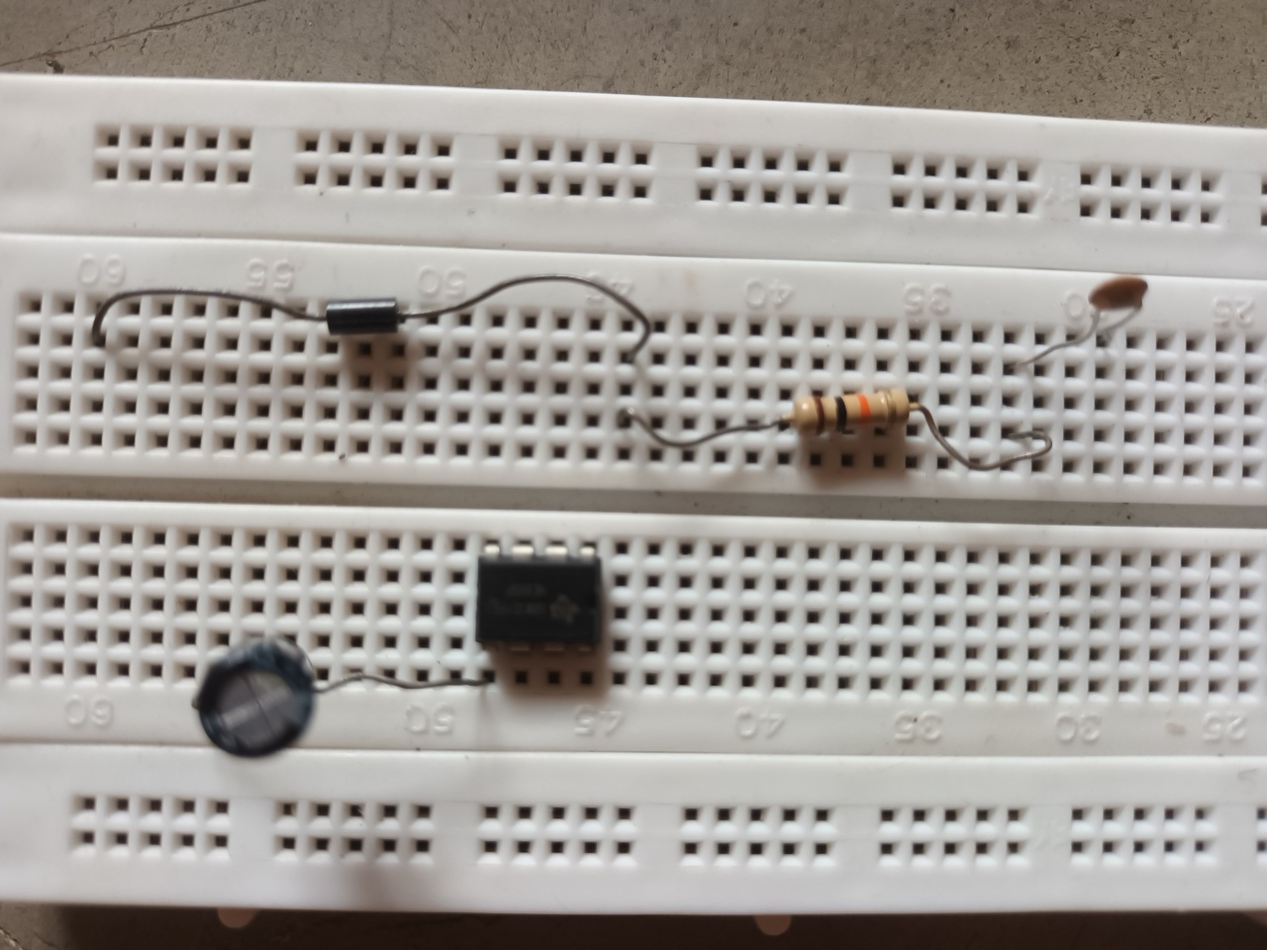capacitor: (194, 632, 317, 759), (1087, 274, 1149, 313)
resistor: (791, 384, 914, 437)
